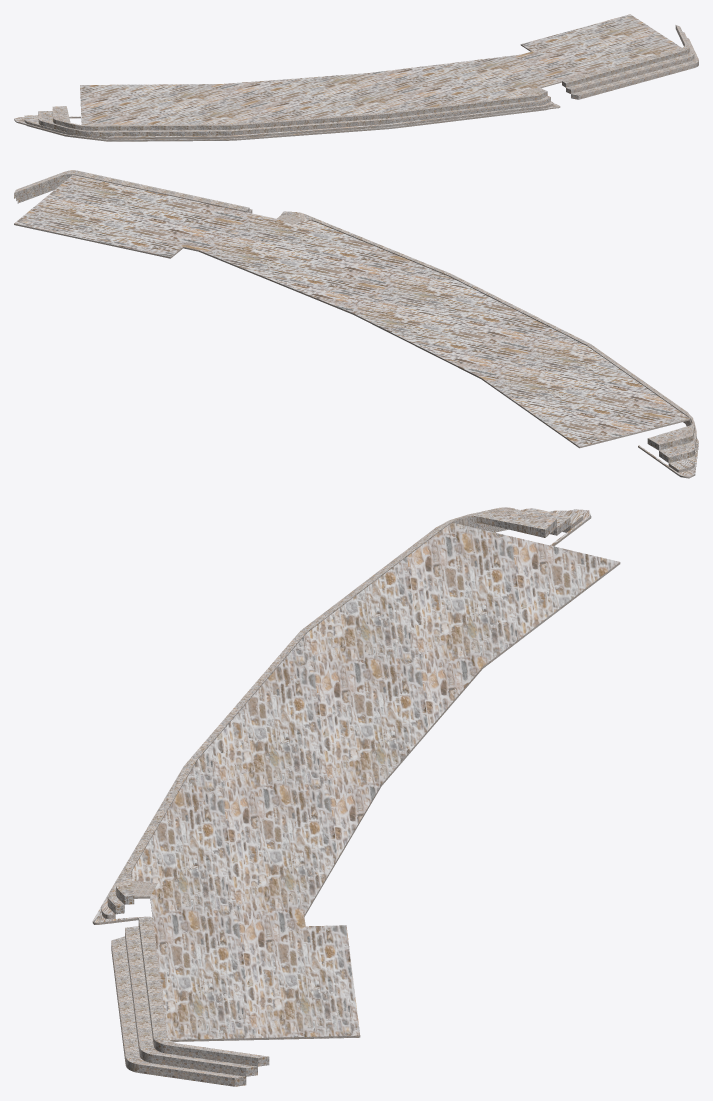
The model's file is Basamento.glb.
The picture shows the model from 3 angles, top to bottom: view 1: azimuth 30°, elevation 25°; view 2: azimuth 150°, elevation 25°; view 3: azimuth 270°, elevation 25°; orthographic projection. The views are drawn at different scales.
Visible parts, largest first — view 1: BA_Basamento; view 2: BA_Basamento; view 3: BA_Basamento.
Part boxes in pixels (left/top/right/bottom): BA_Basamento: left=14, top=14, right=698, bottom=141; BA_Basamento: left=14, top=170, right=698, bottom=478; BA_Basamento: left=92, top=507, right=620, bottom=1086.
Bounding box in the file's own units: 173 × 3.6 × 67.15.
1 material, 1 textured.
